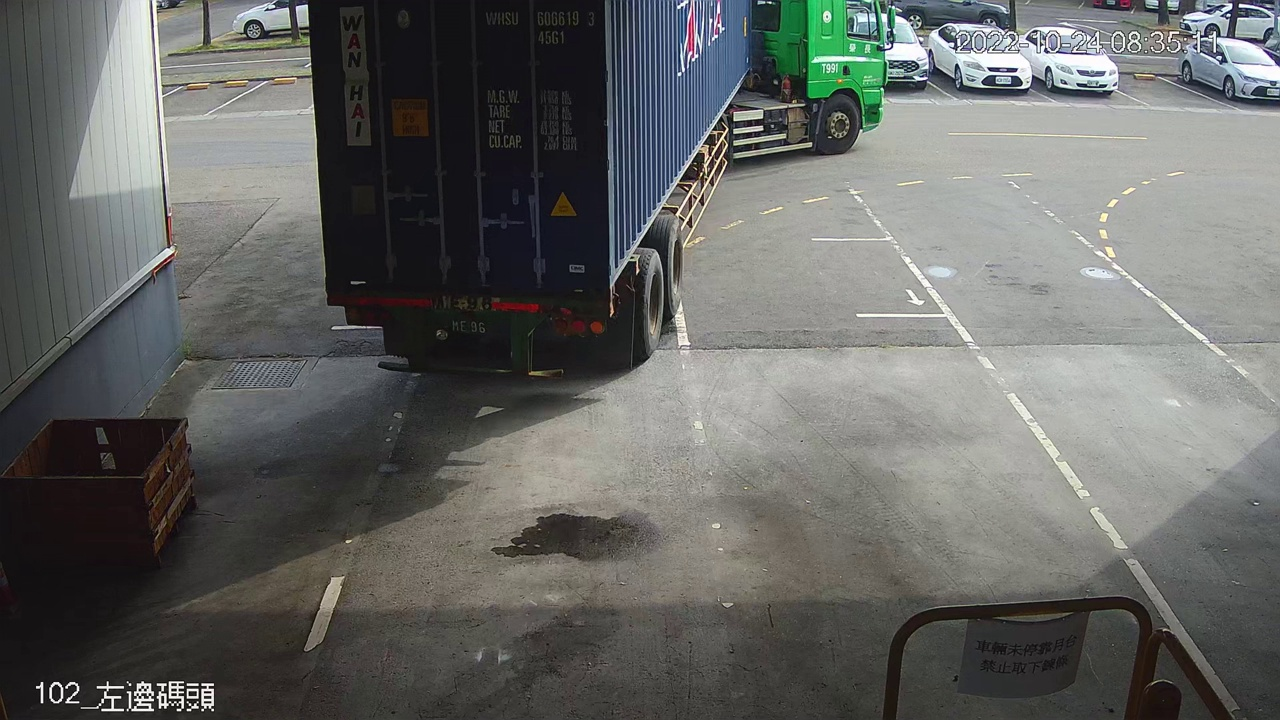container: (480, 3, 601, 48)
